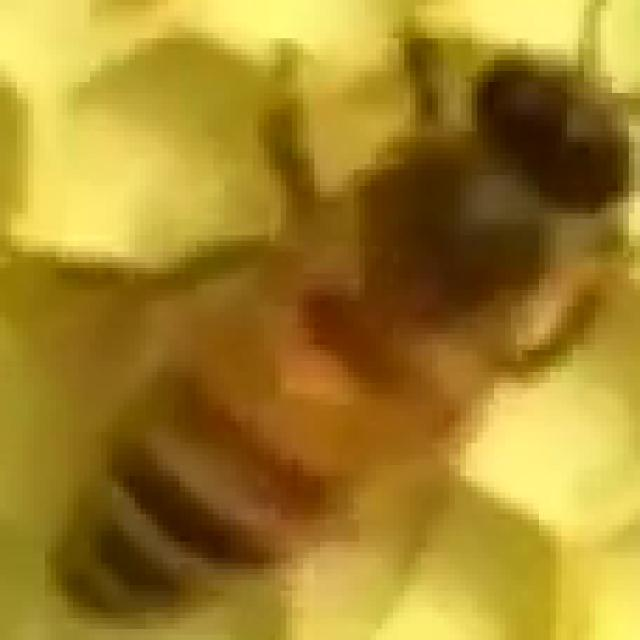honeybee: (50, 44, 640, 640)
